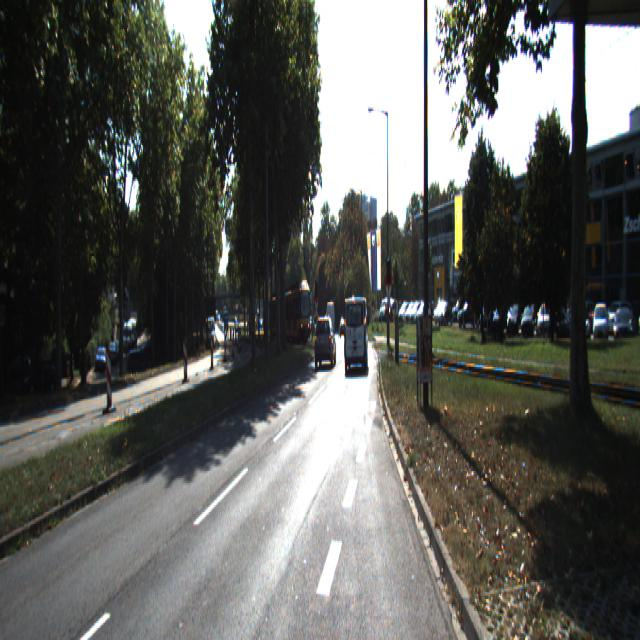Car: (274, 286, 312, 345), (344, 299, 366, 379), (314, 316, 336, 368)
